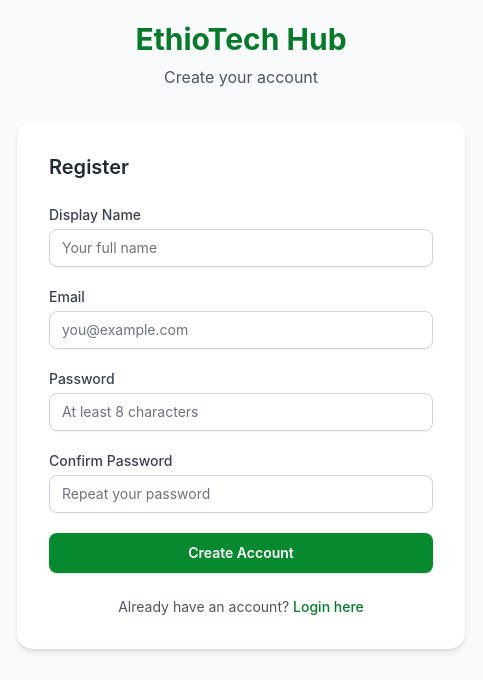
Test: RegisterPage › shows error when password is too short
Type "Test User" into the field labelled "Display Name" at (241, 248), box 49,229 -> 433,267
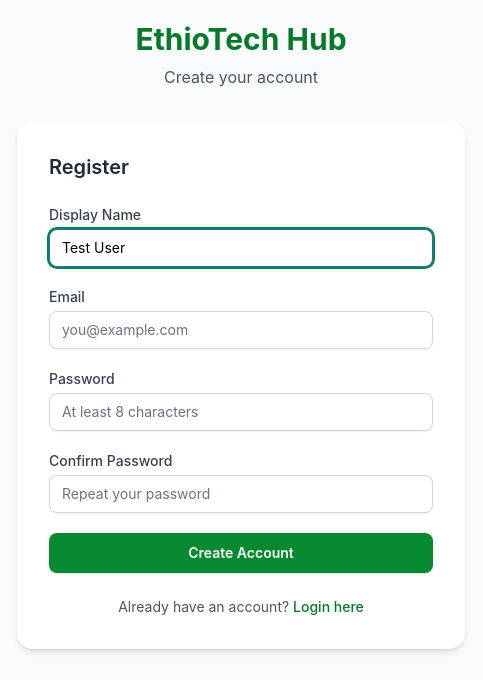
Type "test@example.com" into the field labelled "Email" at (241, 330), box 49,311 -> 433,349
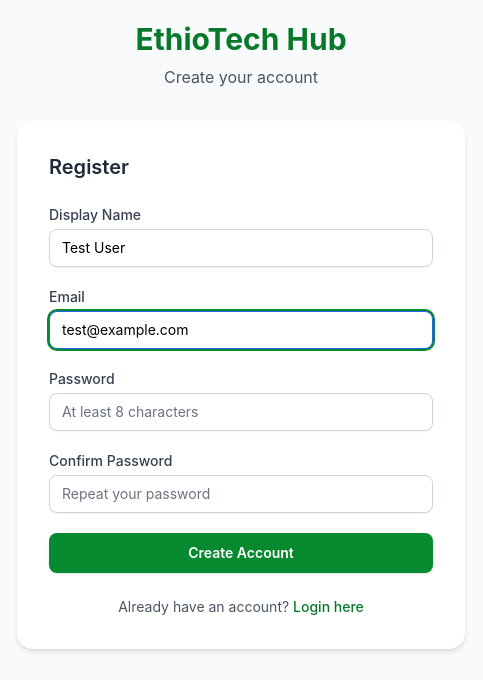
Type "short" into the password field labelled "Password" at (241, 412), box 49,393 -> 433,431
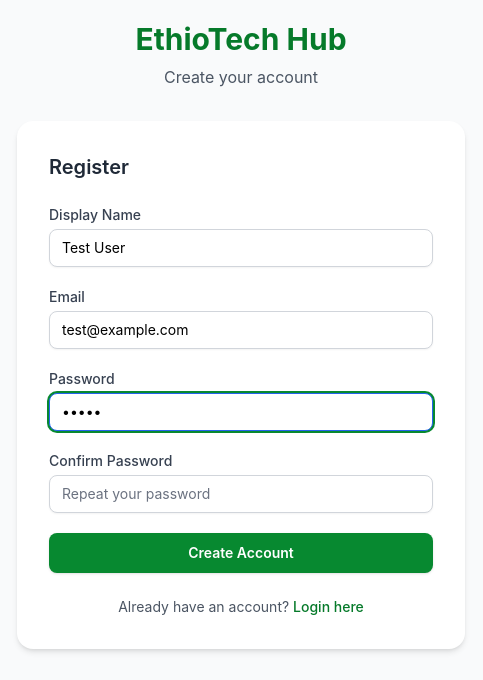
Type "short" into the password field labelled "Confirm Password" at (241, 494), box 49,475 -> 433,513
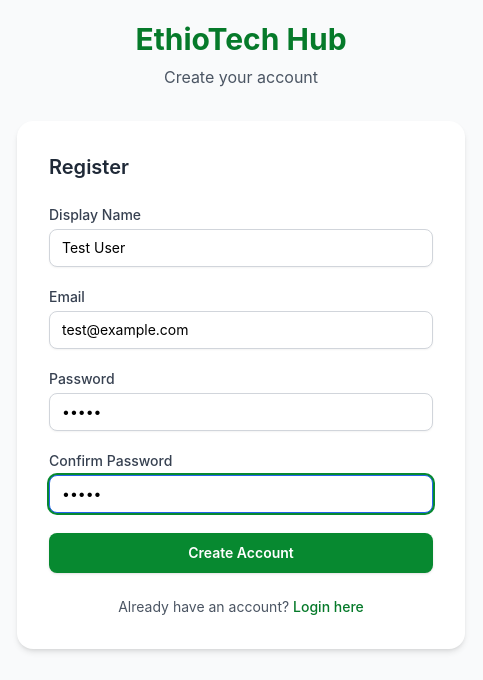
Click the button "Create Account" at (241, 553), box 49,533 -> 433,573
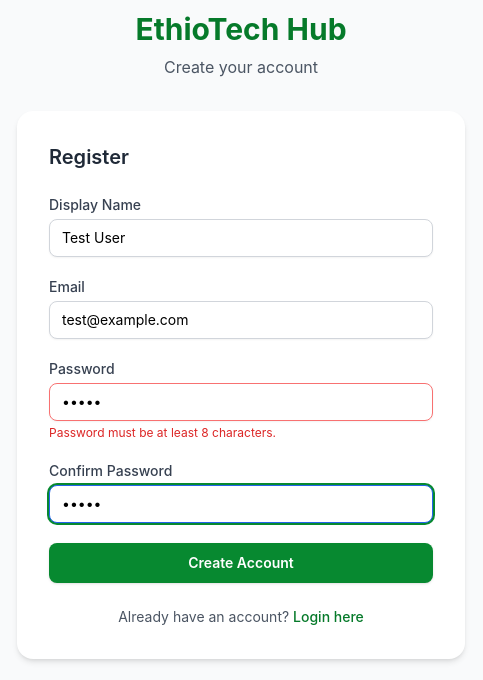
Now the text "Password must be at least 8 characters." is shown, box 49,425 -> 276,440
